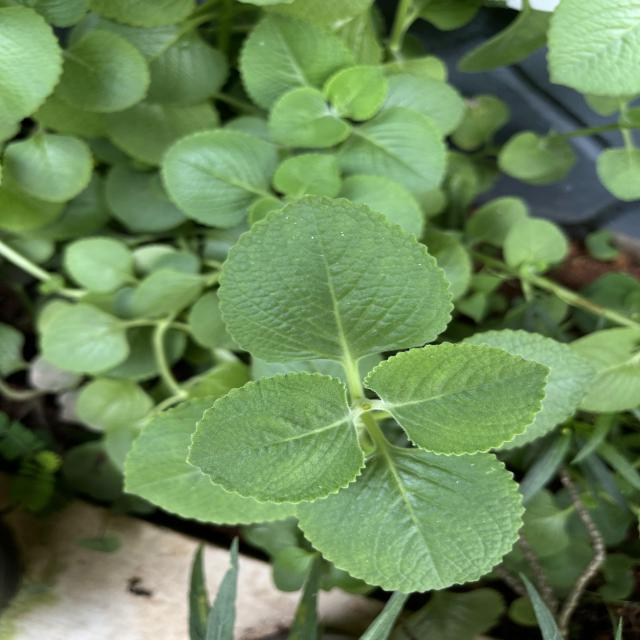Plectranthus barbatus: (214, 192, 456, 366), (295, 450, 527, 594), (184, 370, 368, 506), (361, 340, 551, 458), (159, 129, 277, 229), (2, 133, 96, 204), (266, 87, 352, 149)
